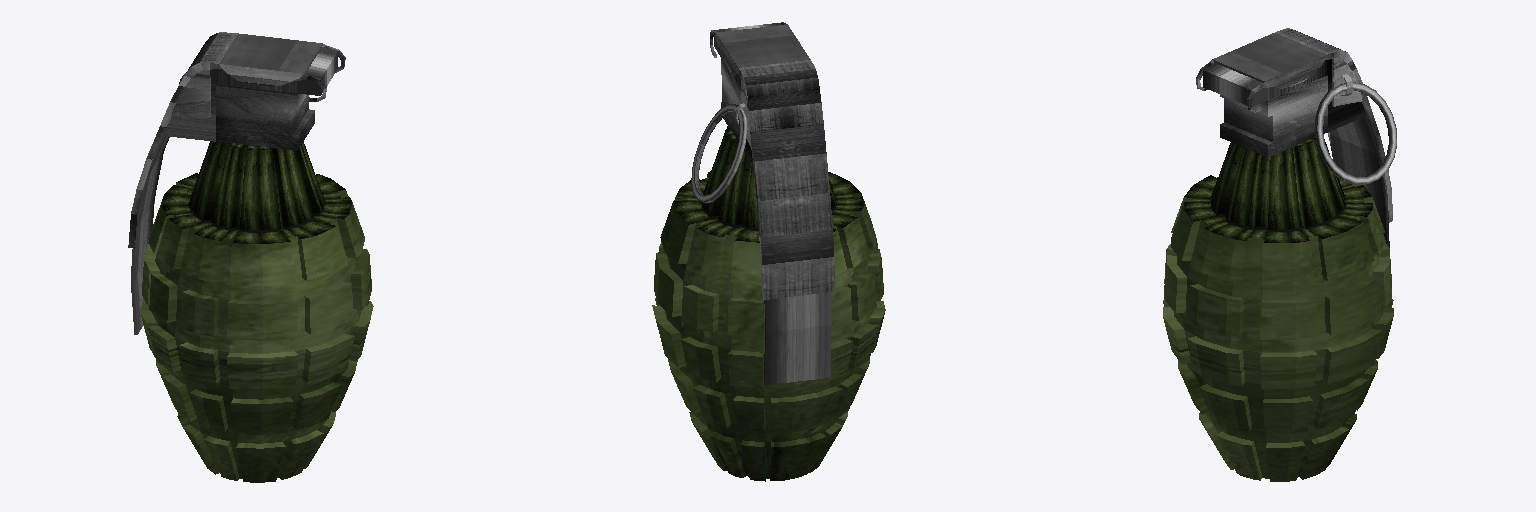
3 renders of one model, left to right at view 1: azimuth 30°, elevation 25°; view 2: azimuth 150°, elevation 25°; view 3: azimuth 270°, elevation 25°, orthographic.
Parts seen in each view (by area): view 1: Grenade; view 2: Grenade; view 3: Grenade.
Boxes of the visible parts, box(x1,y1,x2,y2) form: Grenade: box(128, 32, 373, 482); Grenade: box(652, 22, 885, 481); Grenade: box(1163, 28, 1396, 481).
Size of the model in its own units: 9.38 by 18.25 by 9.52.
3 materials, 2 textured.